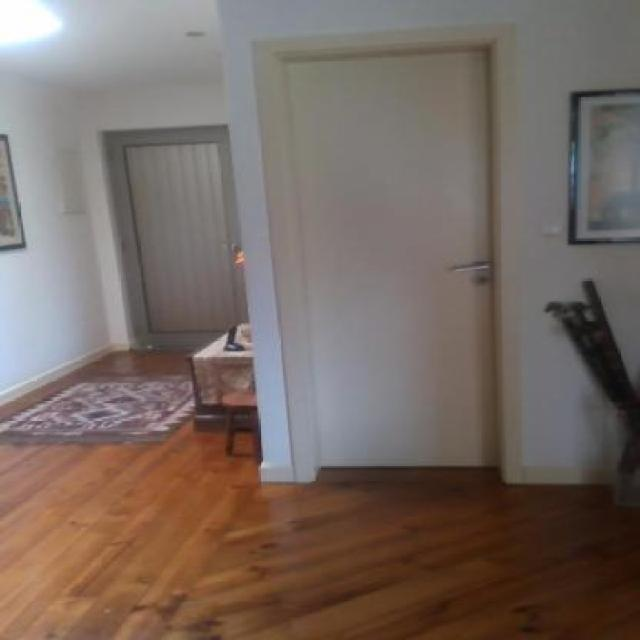door_handle: (444, 246, 494, 284)
